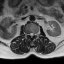CCS_normal: (30, 30, 32, 39)
LFS_normal: (34, 30, 36, 37)
LLS_normal: (32, 30, 34, 37)
RFS_stenosis: (27, 31, 28, 37)
RLS_normal: (28, 31, 30, 37)
